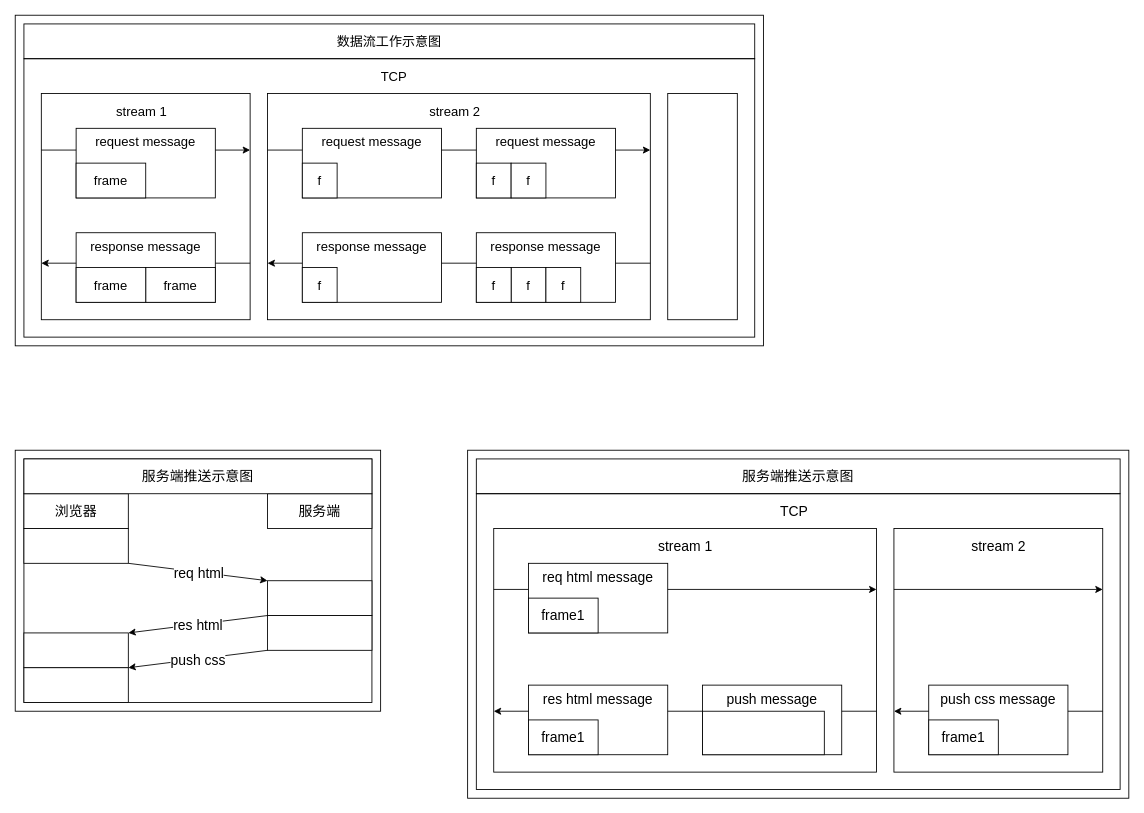
Some shapes in this 1144 by 813 pixel diagram are drawn without their labels. Each missing label, with the centre of its shape:
"frame PUSH_PROMISE" goes at pixel 763 732.
"stream n" goes at pixel 702 206.
